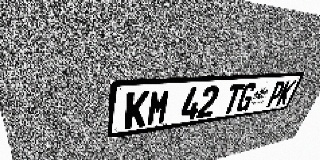2: (196, 85, 221, 118)
4: (179, 86, 204, 121)
G: (235, 83, 258, 112)
K: (124, 90, 150, 130), (275, 80, 297, 106)
M: (146, 89, 172, 126)
P: (265, 81, 287, 108)
T: (221, 84, 245, 115)
